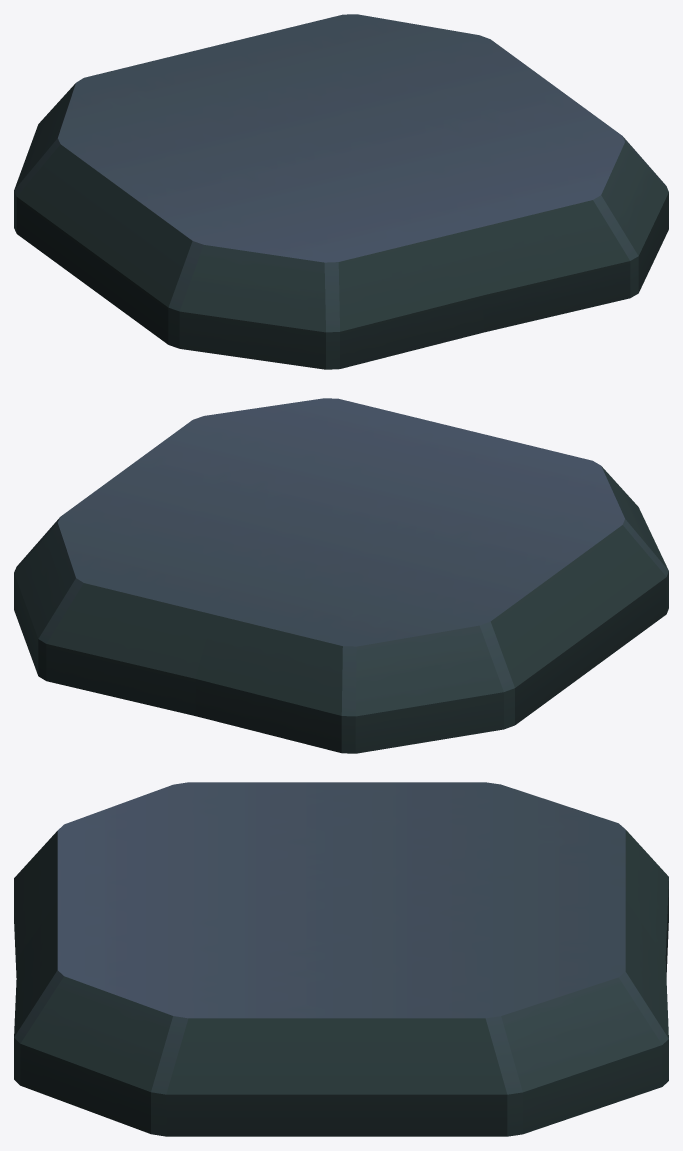
Rendered from undead_oracle_base.fbx.
3 renders of one model, top to bottom at view 1: azimuth 30°, elevation 25°; view 2: azimuth 150°, elevation 25°; view 3: azimuth 270°, elevation 25°, orthographic. The views are drawn at different scales.
Visible parts, largest first — view 1: undead_oracle_base; view 2: undead_oracle_base; view 3: undead_oracle_base.
Part boxes in pixels (left/top/right/bottom): undead_oracle_base: left=14, top=14, right=668, bottom=369; undead_oracle_base: left=14, top=398, right=668, bottom=753; undead_oracle_base: left=14, top=782, right=668, bottom=1136.
Size of the model in its own units: 6.11 by 1.04 by 6.18.
